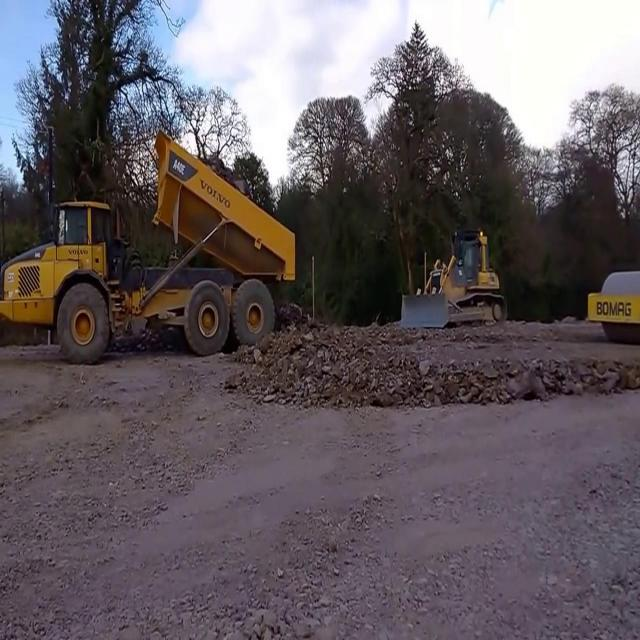Dump Truck: (0, 138, 297, 352)
Roller: (586, 264, 640, 340)
